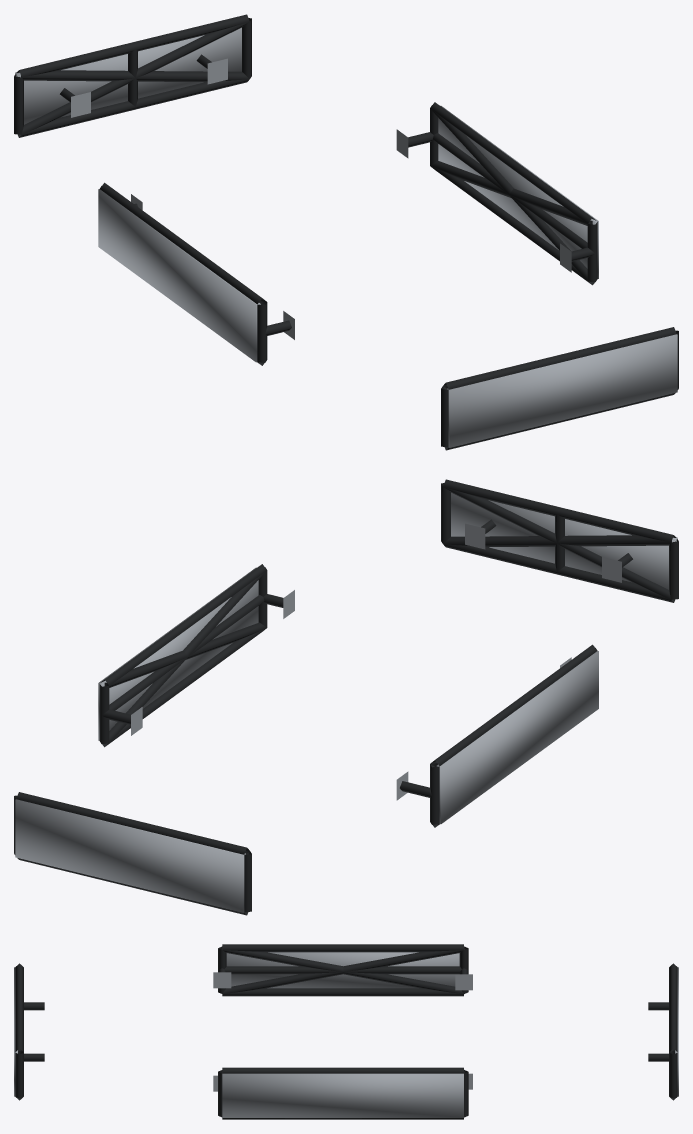
File: feldhaus_riacho_protecao.glb
3 renders of one model, top to bottom at view 1: azimuth 30°, elevation 25°; view 2: azimuth 150°, elevation 25°; view 3: azimuth 270°, elevation 25°, orthographic. The views are drawn at different scales.
Visible parts, largest first — view 1: Protection_front_Level3_Details, Protection_left_Level3_Details, Protection_rear_Level1_Details, Protection_rear_Level3_Details, Protection_right_Level1_Details, Protection_rear_Level2_Details, Protection_right_Level2_Details, Protection_right_Level3_Details, Protection_front_Level1_Details, Protection_left_Level1_Details; view 2: Protection_rear_Level3_Details, Protection_left_Level3_Details, Protection_front_Level1_Details, Protection_front_Level3_Details, Protection_right_Level1_Details, Protection_front_Level2_Details, Protection_right_Level2_Details, Protection_right_Level3_Details, Protection_rear_Level1_Details, Protection_left_Level1_Details; view 3: Protection_right_Level3_Details, Protection_left_Level2_Details, Protection_left_Level1_Details, Protection_left_Level3_Details, Protection_right_Level1_Details, Protection_rear_Level1_Details, Protection_front_Level1_Details.
Part boxes in pixels (box(x1,y1,x2,y2)): Protection_front_Level3_Details: box(447, 334, 677, 447); Protection_left_Level3_Details: box(98, 189, 260, 362); Protection_rear_Level1_Details: box(14, 14, 251, 137); Protection_rear_Level3_Details: box(15, 27, 241, 124); Protection_right_Level1_Details: box(396, 102, 597, 285); Protection_rear_Level2_Details: box(16, 22, 249, 136); Protection_right_Level2_Details: box(430, 109, 596, 284); Protection_right_Level3_Details: box(438, 105, 598, 278); Protection_front_Level1_Details: box(441, 327, 678, 450); Protection_left_Level1_Details: box(100, 182, 294, 365); Protection_rear_Level3_Details: box(15, 799, 245, 912); Protection_left_Level3_Details: box(436, 651, 598, 824); Protection_front_Level1_Details: box(441, 479, 678, 602); Protection_front_Level3_Details: box(451, 492, 677, 589); Protection_right_Level1_Details: box(99, 564, 294, 747); Protection_front_Level2_Details: box(443, 487, 676, 601); Protection_right_Level2_Details: box(100, 571, 266, 746); Protection_right_Level3_Details: box(98, 567, 258, 740); Protection_rear_Level1_Details: box(14, 792, 251, 915); Protection_left_Level1_Details: box(396, 644, 597, 827); Protection_right_Level3_Details: box(222, 1073, 463, 1117); Protection_left_Level2_Details: box(222, 947, 464, 993); Protection_left_Level1_Details: box(213, 944, 472, 996); Protection_left_Level3_Details: box(226, 952, 459, 988); Protection_right_Level1_Details: box(213, 1067, 472, 1119); Protection_rear_Level1_Details: box(648, 963, 677, 1100); Protection_front_Level1_Details: box(15, 963, 44, 1100).
Size of the model in its own units: 1.87 by 0.354 by 4.1.
1 material, 1 textured.
